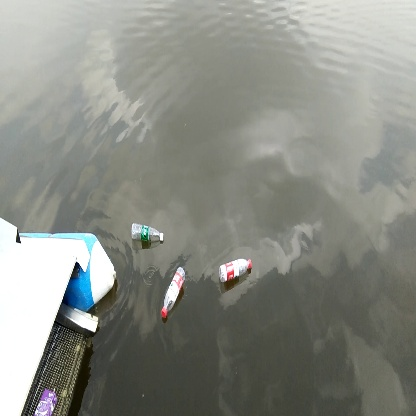bottle: (158, 265, 188, 318), (217, 256, 255, 286), (129, 220, 168, 244)
